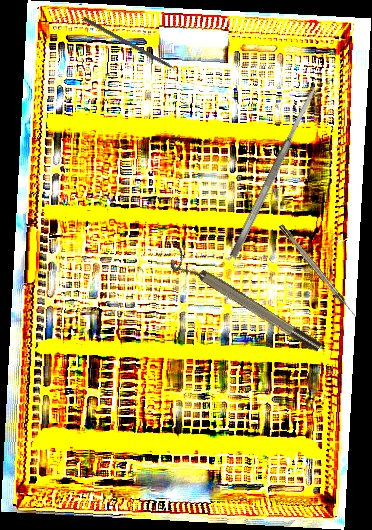Fixation Ring: (167, 247, 324, 361)
Hook Surgical: (278, 223, 358, 319), (82, 16, 187, 79)
Spatula Surgical: (227, 84, 321, 260)
